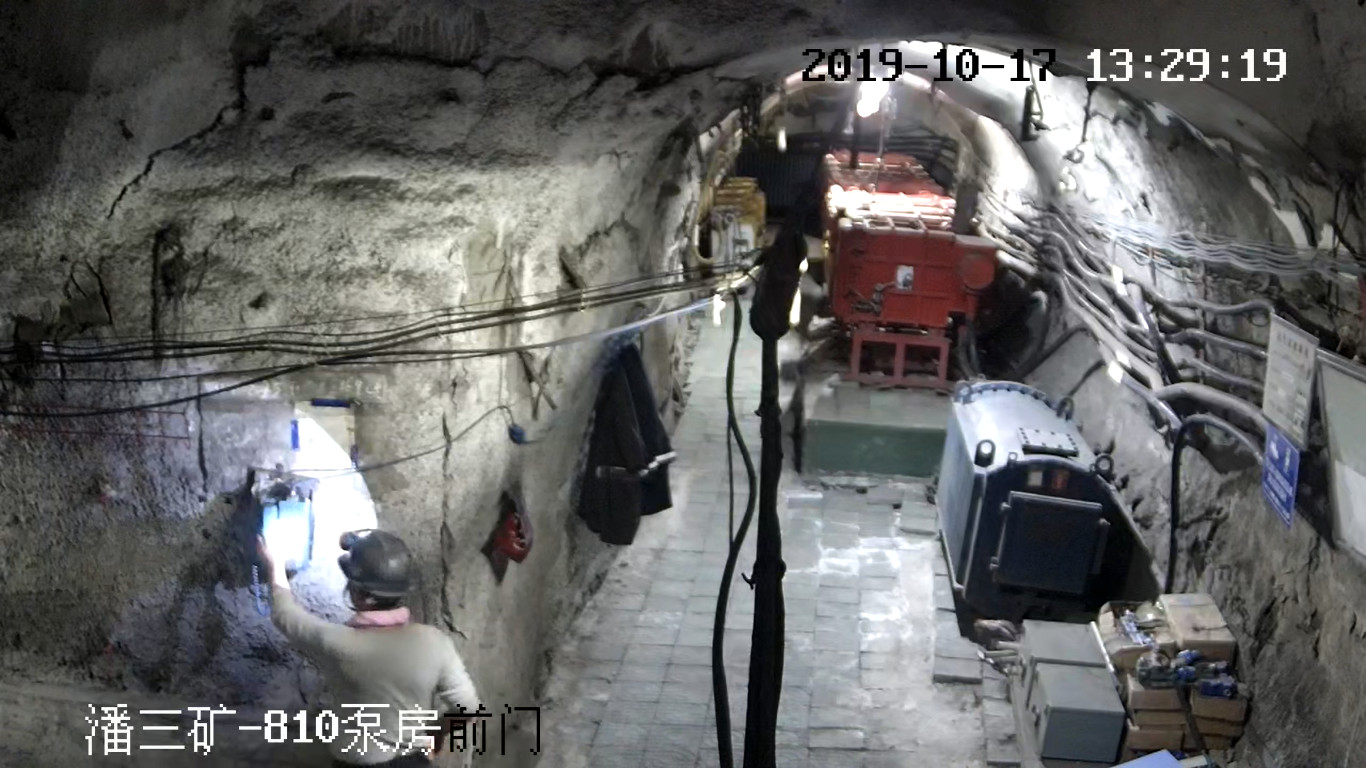helmet: (339, 528, 412, 598)
